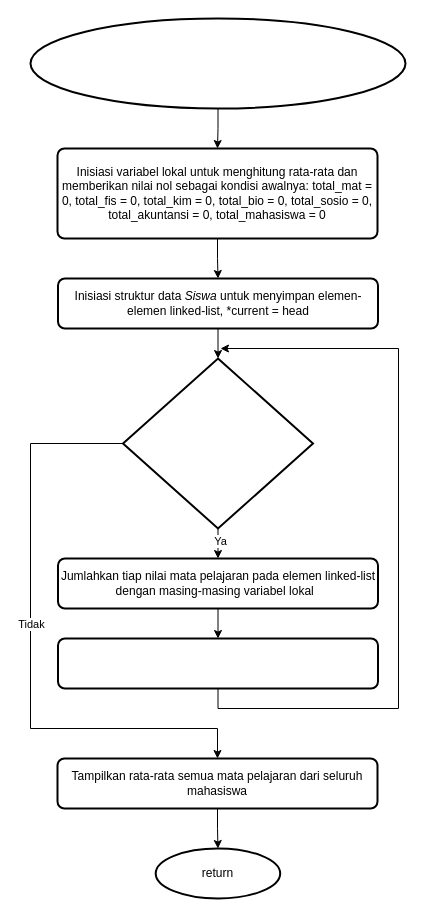
This 424x916 diagram has some shape labels left out. The shapes that lost their labels are listed below. From the top down, each one's centre as x and y in pixels, then its label:
the point at 217,63: calculateAverage(Siswa *head)
the point at 218,443: Apakah struktur data elemen saat ini ada?
the point at 217,663: total_mahasiswa++ & akses elemen linked list selanjutnya
